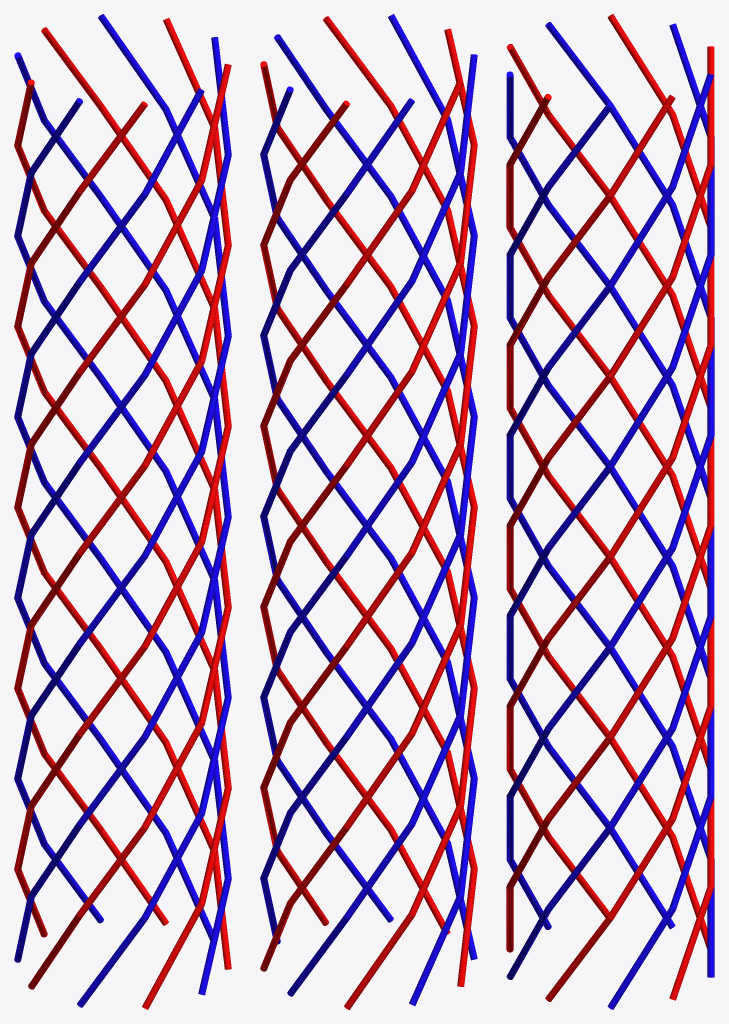
File: sawag6.obj
3 renders of one model, left to right at view 1: azimuth 30°, elevation 25°; view 2: azimuth 150°, elevation 25°; view 3: azimuth 270°, elevation 25°, orthographic.
Visible parts, largest first — view 1: Obj_000002, Obj_000003, Obj_000004, Obj_000005, Obj_000010, Obj_000001, Obj_000008, Obj_000007, Obj_000009, Obj_000006; view 2: Obj_000006, Obj_000007, Obj_000005, Obj_000008, Obj_000004, Obj_000001, Obj_000003, Obj_000009, Obj_000010, Obj_000002; view 3: Obj_000002, Obj_000009, Obj_000001, Obj_000008, Obj_000010, Obj_000003, Obj_000006, Obj_000007, Obj_000005, Obj_000004.
Boxes of the visible parts, <box> form: Obj_000002: <box>14,27,231,937</box>; Obj_000003: <box>14,14,231,923</box>; Obj_000004: <box>14,18,231,925</box>; Obj_000005: <box>14,37,231,940</box>; Obj_000010: <box>14,79,231,989</box>; Obj_000001: <box>14,52,231,962</box>; Obj_000008: <box>14,101,231,1009</box>; Obj_000007: <box>14,88,231,995</box>; Obj_000009: <box>14,98,231,1007</box>; Obj_000006: <box>14,63,231,969</box>; Obj_000006: <box>260,16,477,925</box>; Obj_000007: <box>260,14,477,922</box>; Obj_000005: <box>260,34,477,944</box>; Obj_000008: <box>260,28,477,934</box>; Obj_000004: <box>260,61,477,971</box>; Obj_000001: <box>260,98,477,1005</box>; Obj_000003: <box>260,86,477,996</box>; Obj_000009: <box>260,54,477,960</box>; Obj_000010: <box>260,80,477,986</box>; Obj_000002: <box>260,100,477,1009</box>; Obj_000002: <box>506,46,714,948</box>; Obj_000009: <box>506,22,714,929</box>; Obj_000001: <box>506,23,714,928</box>; Obj_000008: <box>506,44,714,952</box>; Obj_000010: <box>506,14,714,917</box>; Obj_000003: <box>506,73,714,977</box>; Obj_000006: <box>506,94,714,1001</box>; Obj_000007: <box>506,71,714,979</box>; Obj_000005: <box>506,102,714,1009</box>; Obj_000004: <box>506,95,714,1000</box>.
Size of the model in its own units: 6.2 by 28.39 by 5.91.
